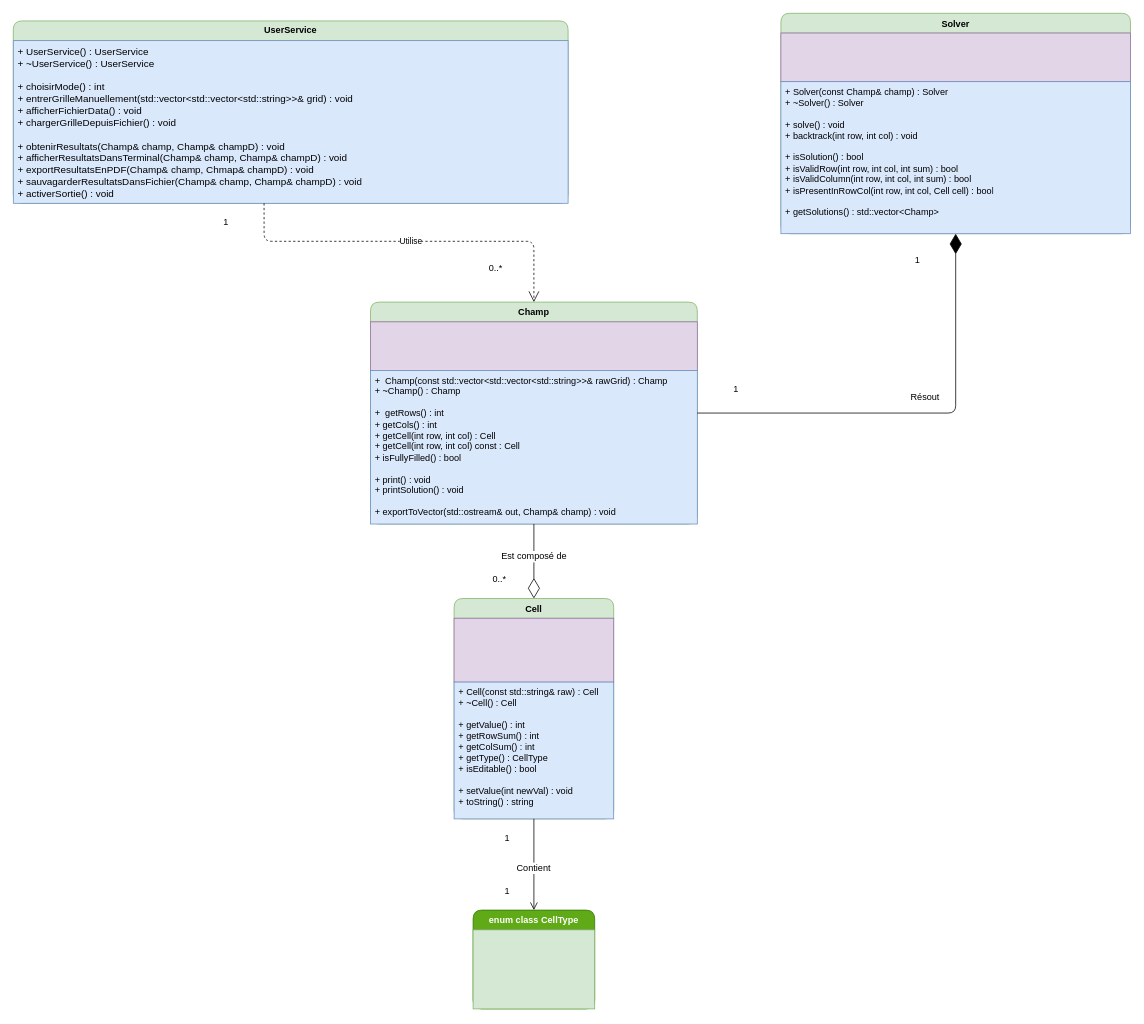
This 1144x1024 diagram has some shape labels left out. Here are the shapes that lost their labels. From the top down, the centre of each, then its label:
point 955,57: - foundSolution : bool - champ : Champ - solutions : std::vector<Champ>
point 533,345: - grid : std::vector<std::vector<Cell>> - cols : int - rows : int
point 533,650: - type: CellType - value : int - rowSum : int - colSum : int - editable : bool
point 533,969: EMPTY, NUMBER, BLACK, ROW_SM, COL_SUM, ROW_COL_SUM
